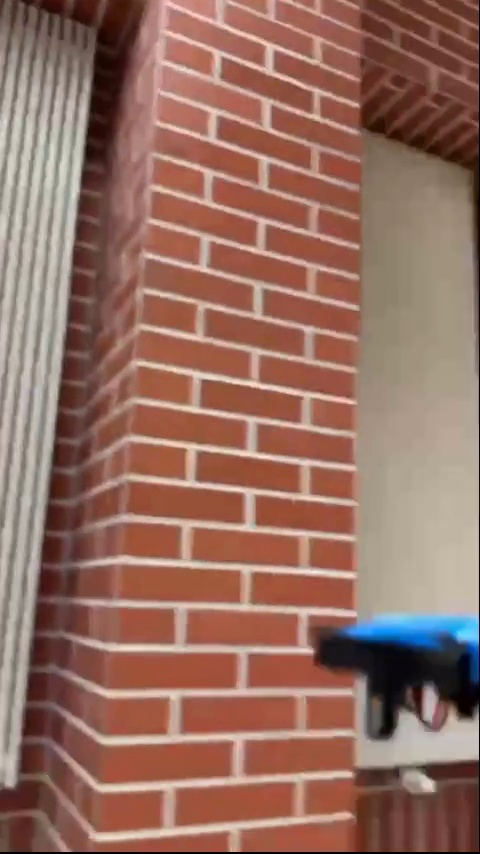drone: (308, 616, 480, 748)
